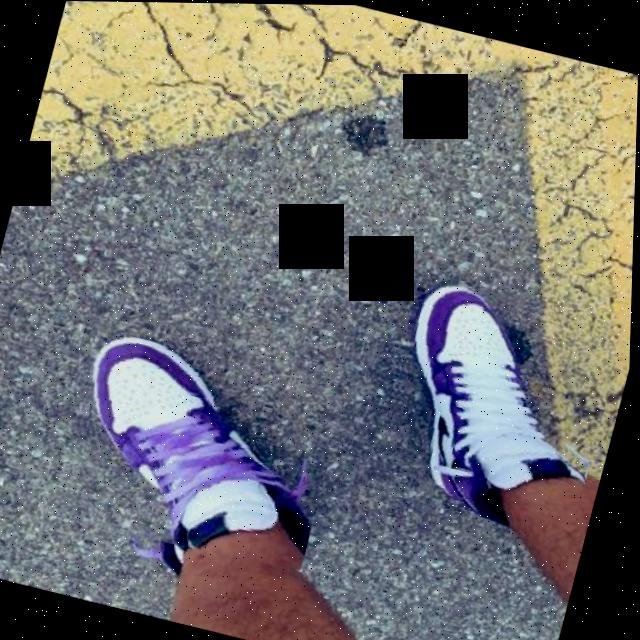shoe: (50, 327, 351, 579), (366, 270, 629, 537)
